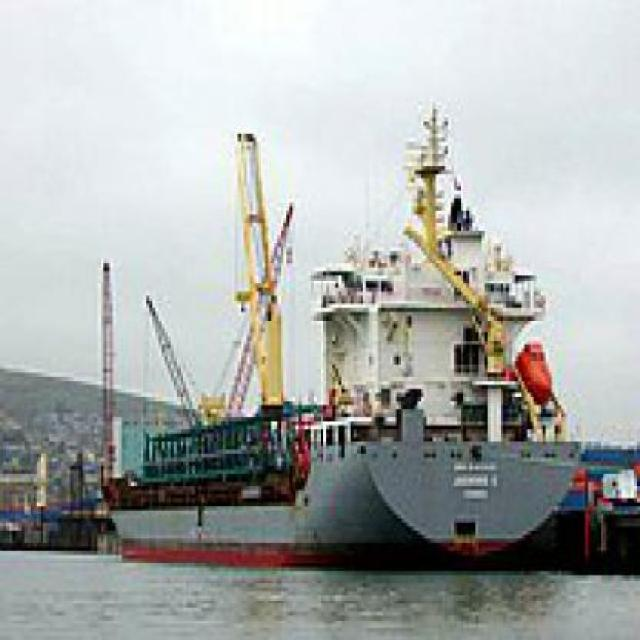container: (65, 83, 586, 577)
